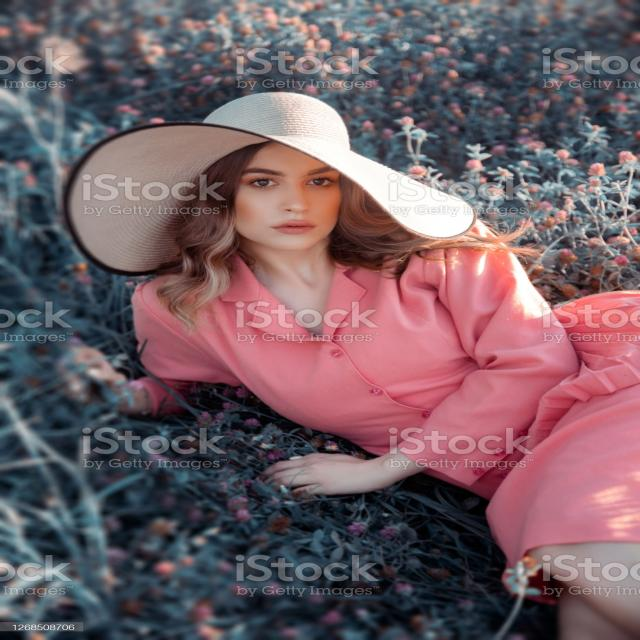hat: (79, 85, 474, 262)
